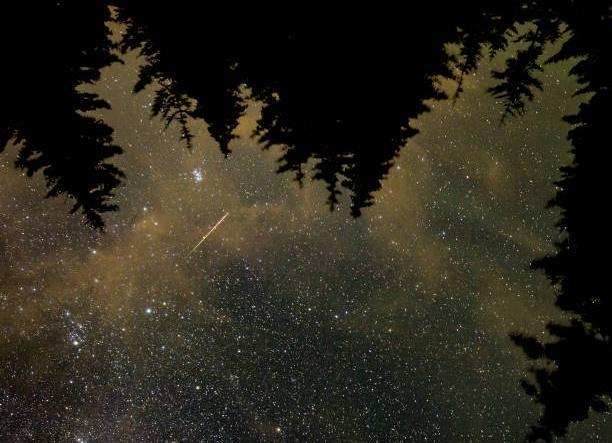meteorite: (182, 198, 243, 272)
